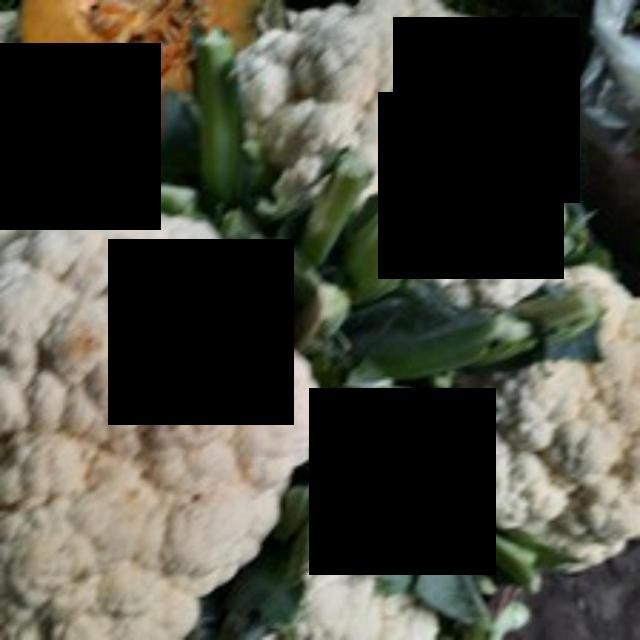cauliflower: (212, 0, 586, 326)
